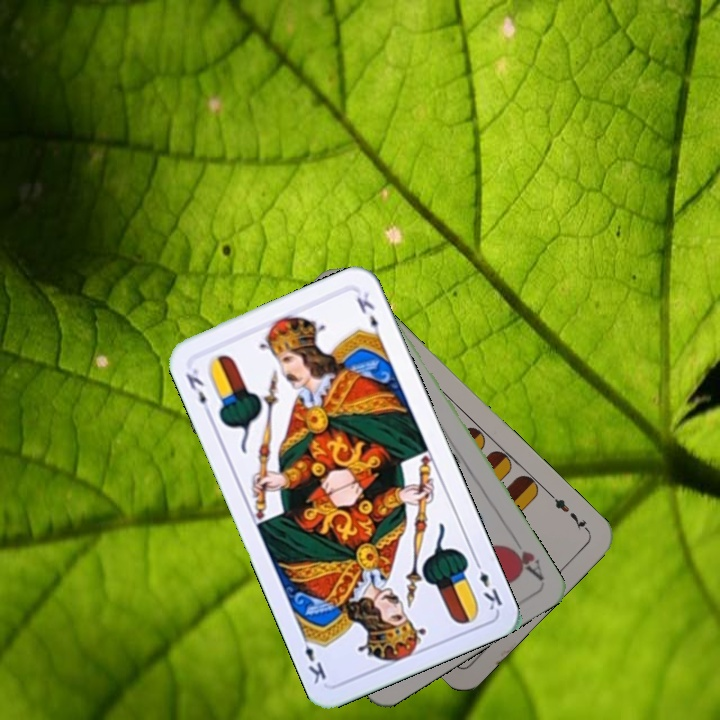E7: (545, 489, 592, 534)
EK: (470, 555, 505, 613), (181, 364, 214, 419)
HA: (501, 540, 546, 583)
